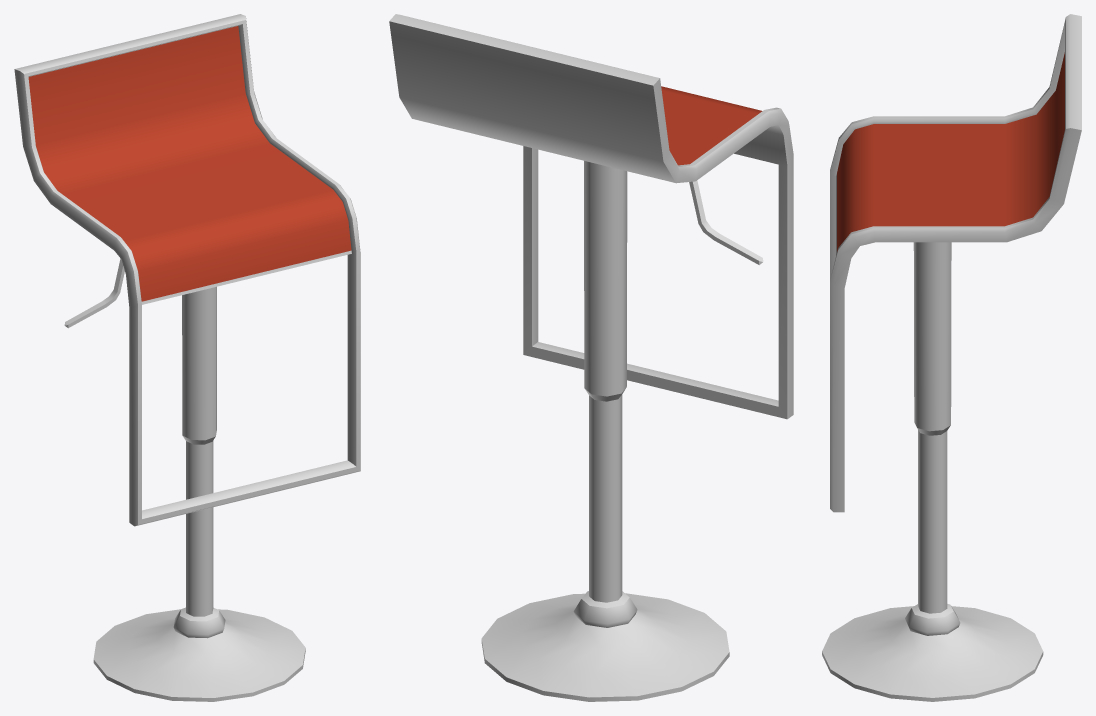
The model's file is ABSJBY01.FBX.
3 renders of one model, left to right at view 1: azimuth 30°, elevation 25°; view 2: azimuth 150°, elevation 25°; view 3: azimuth 270°, elevation 25°, orthographic. The views are drawn at different scales.
Visible parts, largest first — view 1: ABSJBY01; view 2: ABSJBY01; view 3: ABSJBY01.
Boxes of the visible parts, <box> form: ABSJBY01: <box>14,14,360,701</box>; ABSJBY01: <box>389,14,793,701</box>; ABSJBY01: <box>822,14,1081,701</box>.
Bounding box in the file's own units: 38.21 × 33.55 × 83.23.
